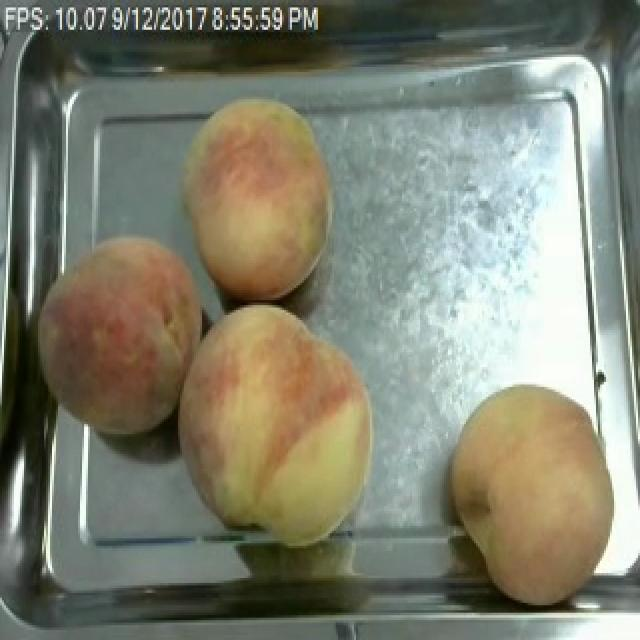Fruit: (168, 293, 386, 553), (438, 372, 630, 613), (22, 221, 220, 444), (170, 84, 344, 305)
